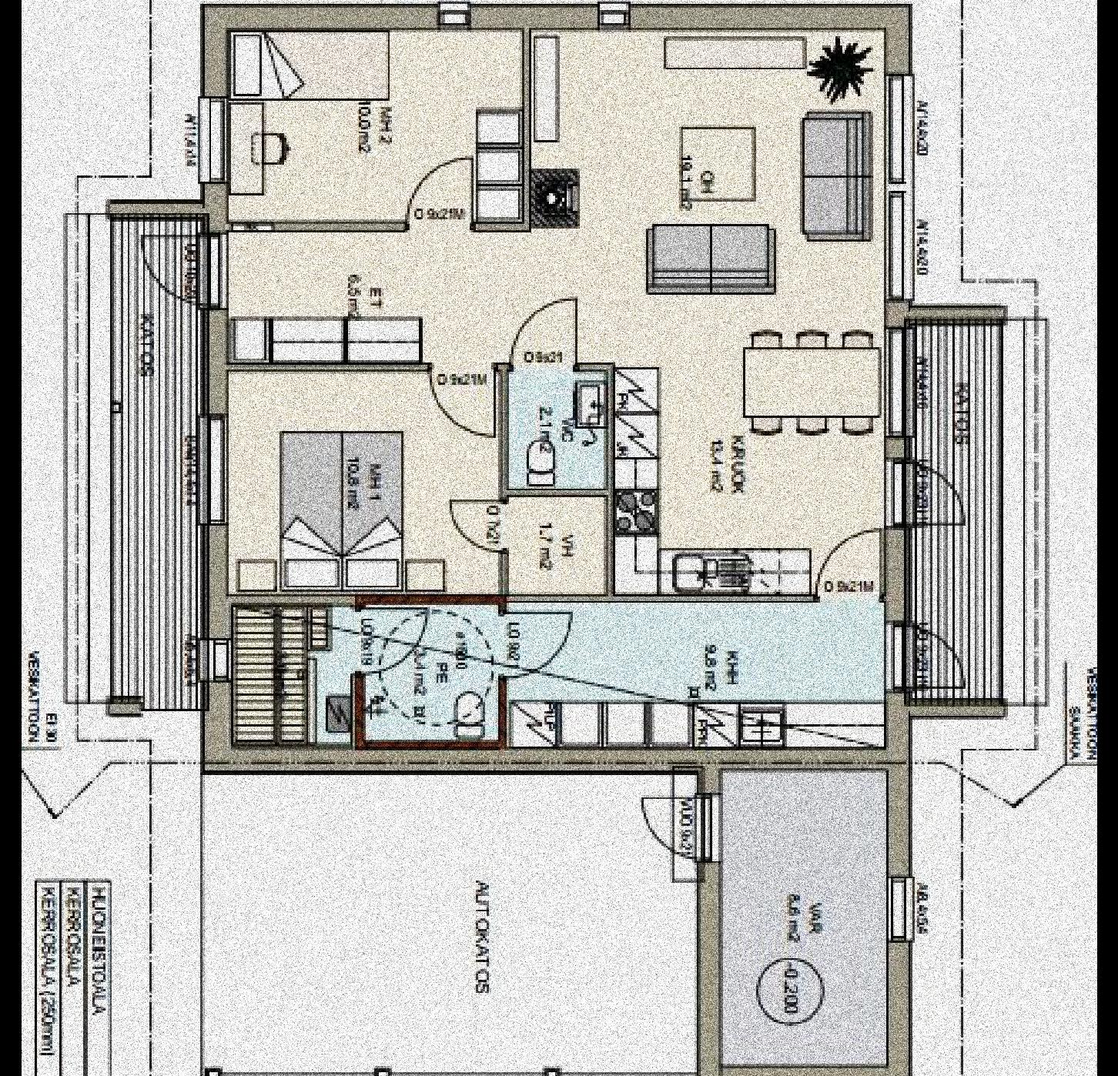door: (875, 624, 971, 713), (798, 518, 883, 613), (147, 238, 231, 319), (509, 294, 581, 384), (351, 601, 426, 683), (493, 608, 573, 680), (889, 459, 969, 530), (639, 795, 719, 863), (410, 152, 474, 233), (432, 368, 495, 439), (453, 501, 505, 550)
window: (192, 407, 225, 534), (892, 82, 912, 289), (887, 331, 908, 438), (199, 102, 225, 185), (897, 867, 919, 944), (210, 639, 227, 681)
zone: (226, 34, 896, 599), (206, 774, 698, 1074), (239, 593, 885, 741), (52, 231, 203, 724), (726, 771, 892, 1064), (901, 326, 994, 704)
